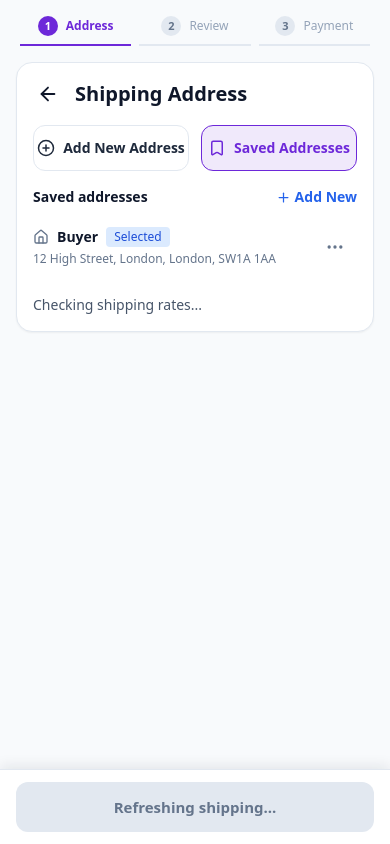
Test case: checkout shipping addresses › shows saved addresses first even if a new-address draft exists
expect the text "12 High Street, London, London, SW1A 1AA" is shown: met, box [33, 251, 313, 267]
Click the button "Add New" at (316, 197), box [276, 187, 357, 207]
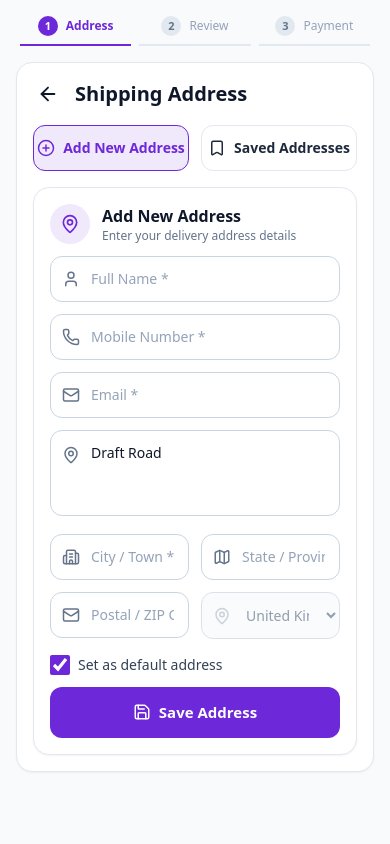
expect the text box named "street address" holds "Draft Road": met, box [50, 430, 340, 516]
